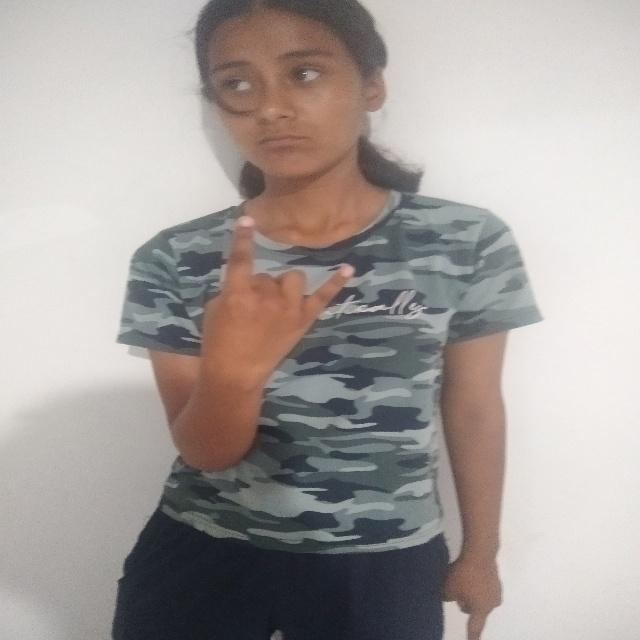Corna: (192, 209, 359, 394)
